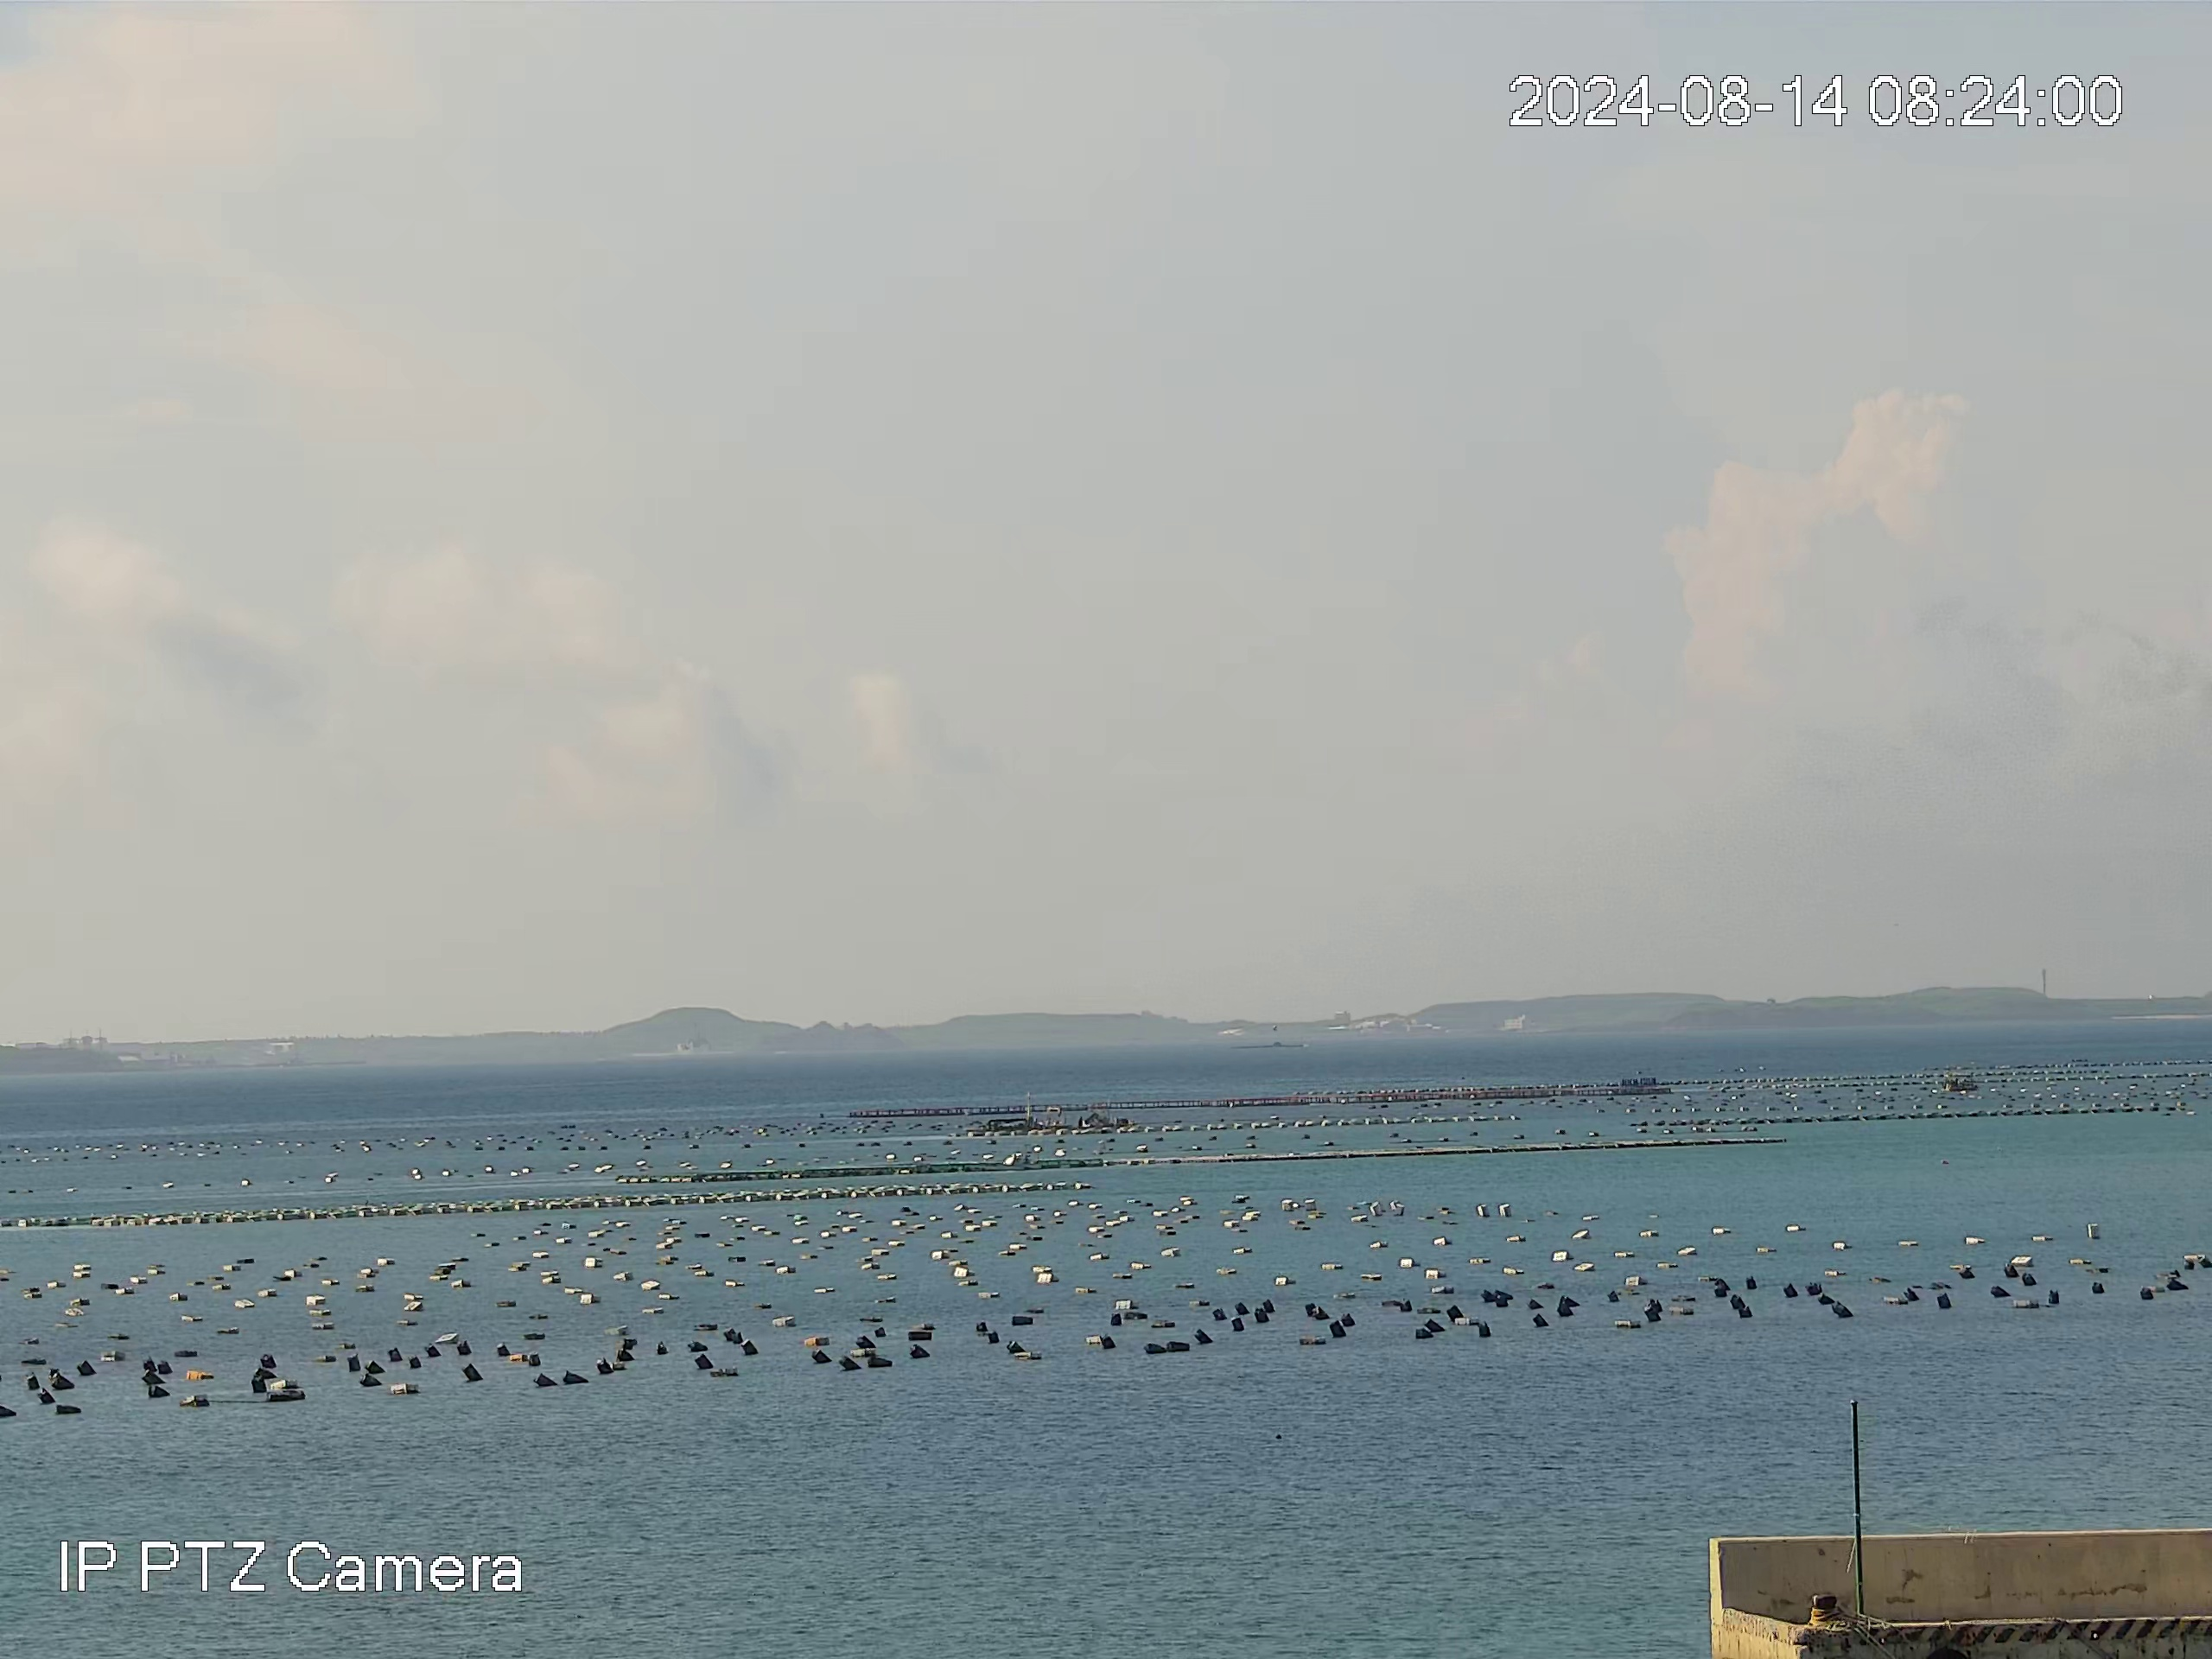boat: (1935, 1068, 1987, 1091)
